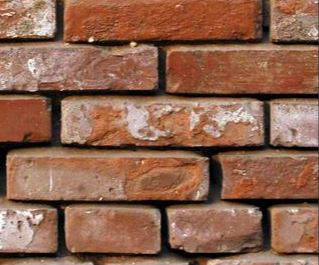brick: (4, 151, 210, 204), (60, 97, 268, 147), (64, 1, 263, 43), (164, 42, 319, 93), (1, 45, 162, 91), (215, 153, 319, 200), (59, 206, 162, 253), (165, 207, 266, 254), (1, 92, 55, 144), (269, 100, 319, 148), (270, 206, 319, 254), (1, 1, 59, 39), (269, 1, 318, 40)
